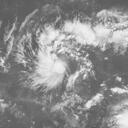cyclone: (34, 33, 89, 93)
